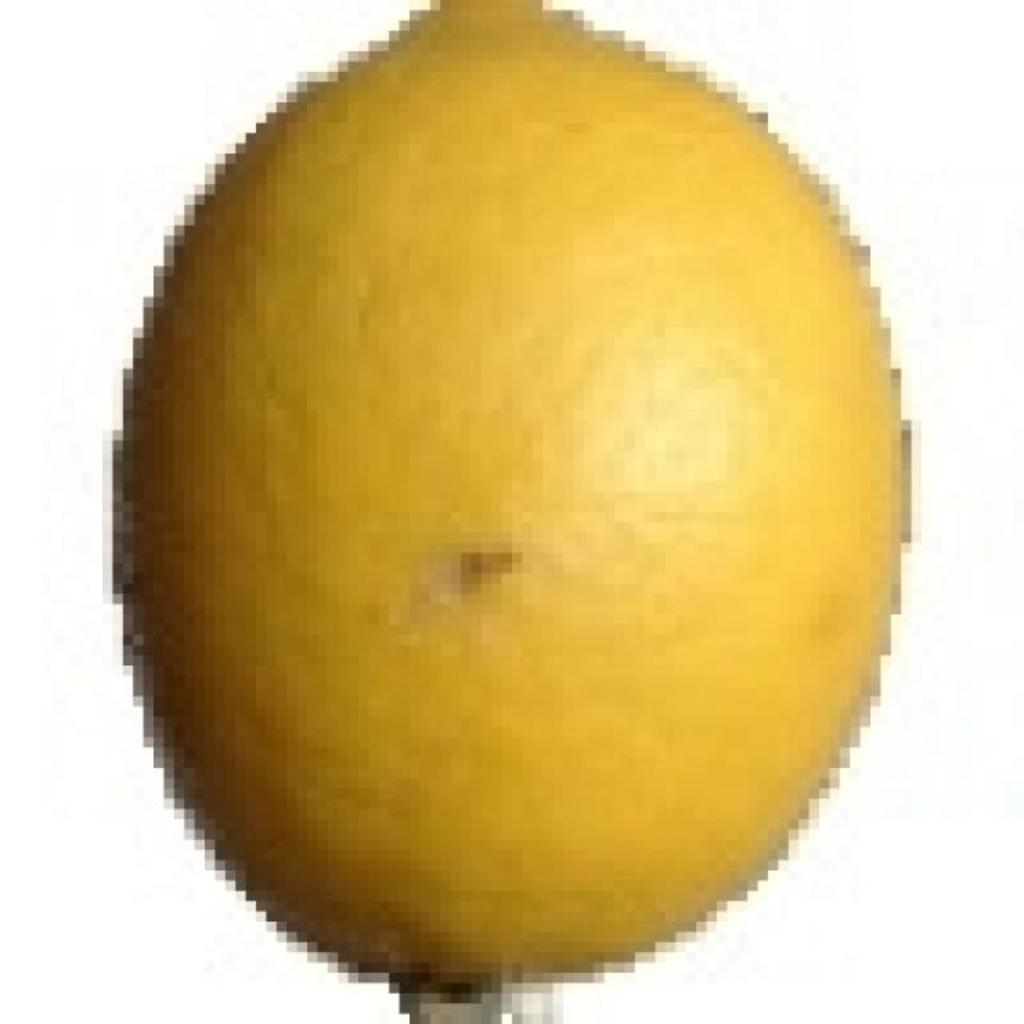lemon: (118, 0, 902, 1002)
